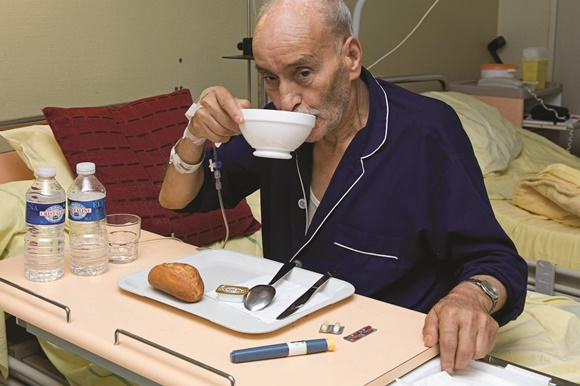drinking: (174, 5, 462, 258)
